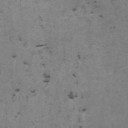oxide scale of temperature system: (12, 35, 87, 115), (70, 0, 104, 19), (76, 54, 82, 59), (80, 125, 83, 128)
